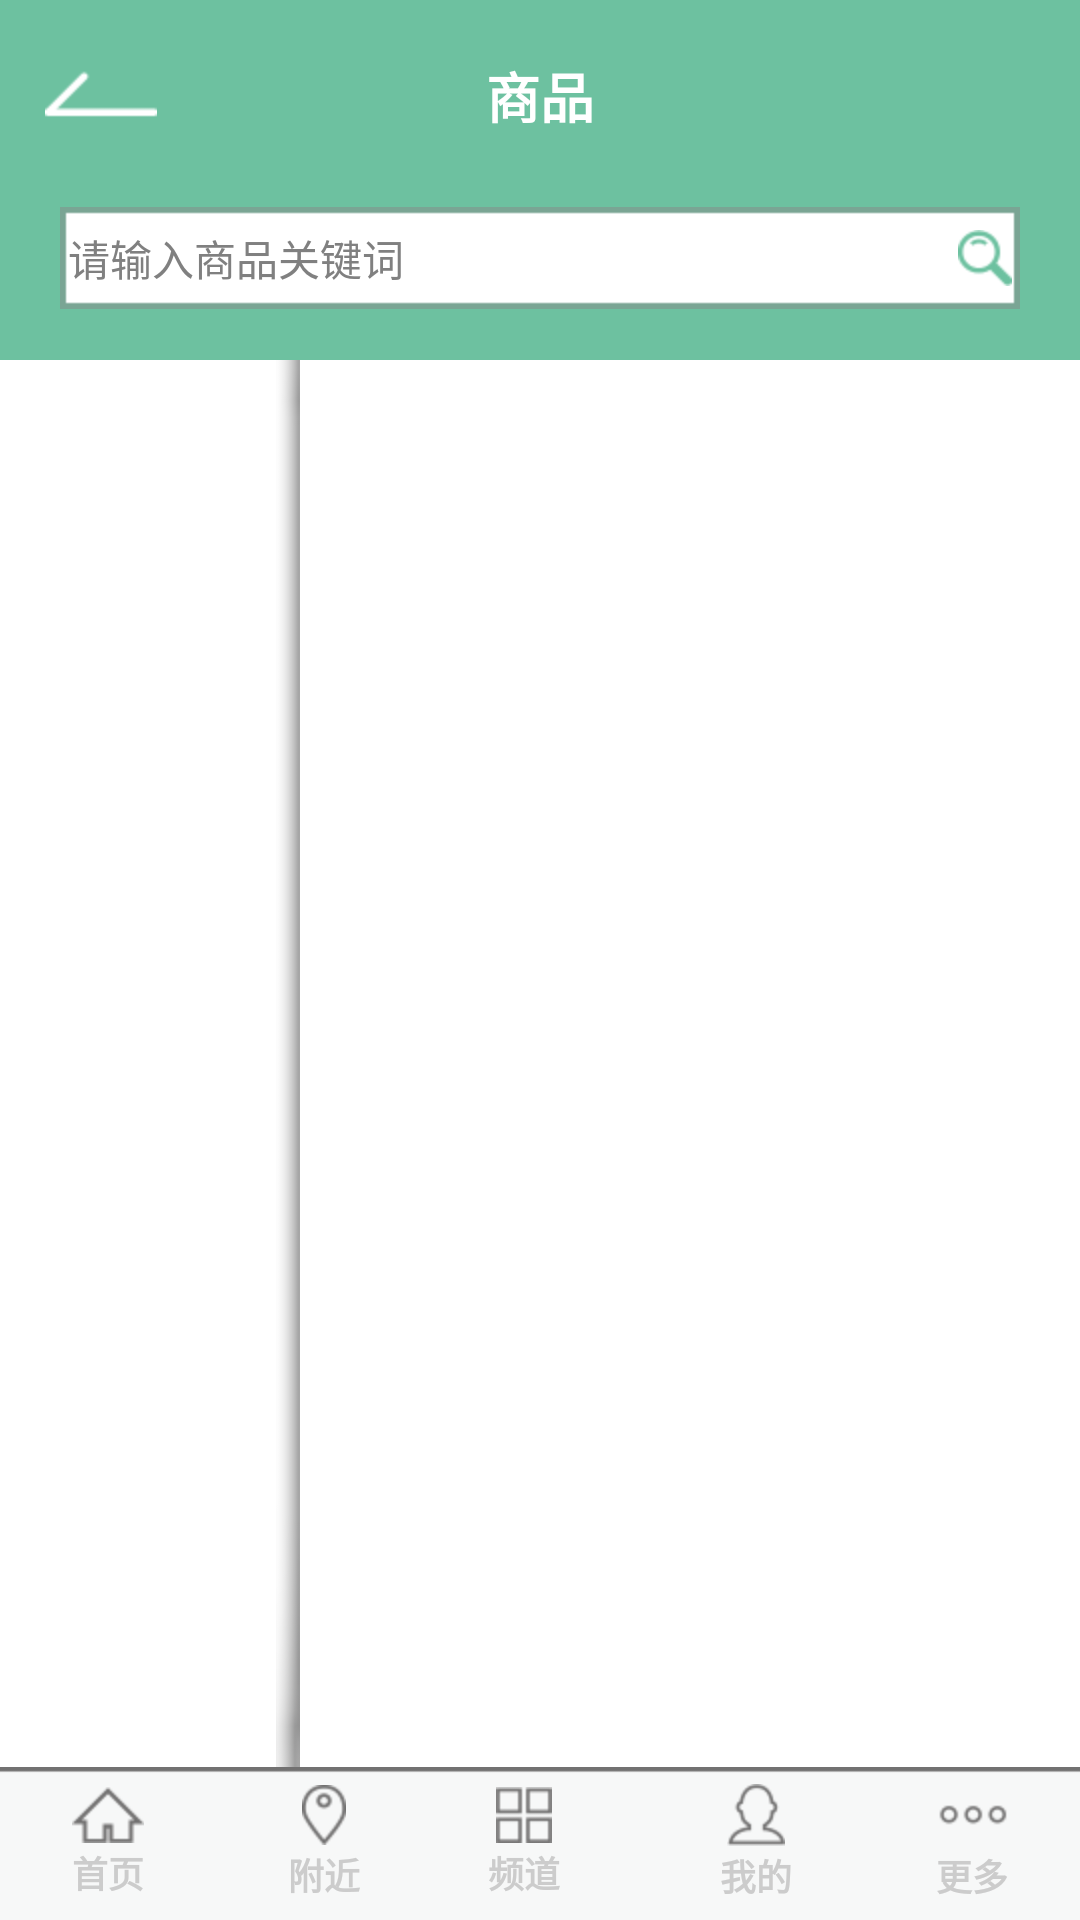

Point at icon controls on the screen. Image size 1080*1920, points as point (x, y).
bar back: point (101, 94)
search: point (985, 258)
